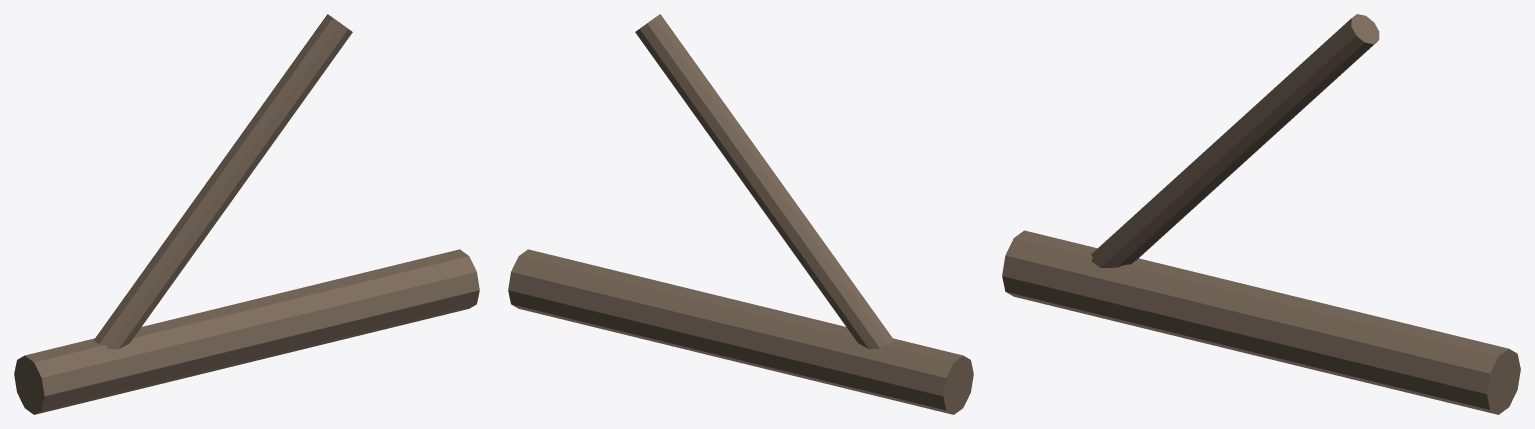
Rendered from roof_beam_broken.glb.
3 views of the same model, side by side, from view 1: azimuth 30°, elevation 25°; view 2: azimuth 150°, elevation 25°; view 3: azimuth 330°, elevation 25° (orthographic). The views are drawn at different scales.
Parts seen in each view (by area): view 1: Body.046; view 2: Body.046; view 3: Body.046.
Boxes of the visible parts, left/top/right/bottom form: Body.046: left=14, top=14, right=479, bottom=414; Body.046: left=508, top=14, right=973, bottom=414; Body.046: left=1002, top=14, right=1520, bottom=414.
Bounding box in the file's own units: 1.4 × 0.9896 × 0.17.
